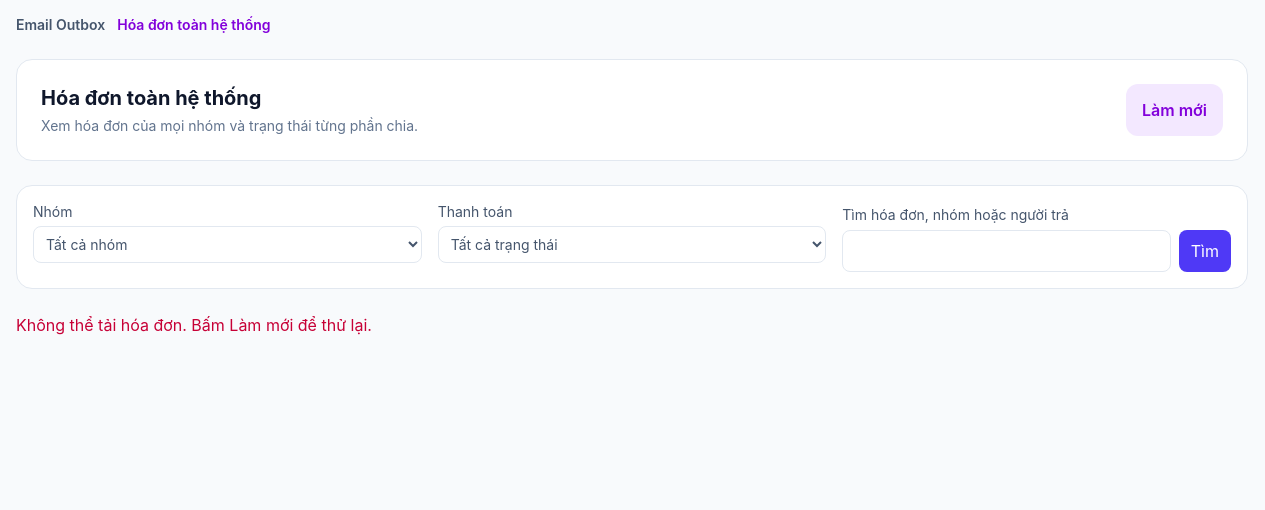
Scenario: failed loads can be retried and empty results disable pagination
Expected: the message "Không thể tải hóa đơn. Bấm Làm mới để thử lại." is shown, [16,315,372,335]
Step 1. Click the button "Làm mới" → [1174, 110], box [1126,84,1223,136]
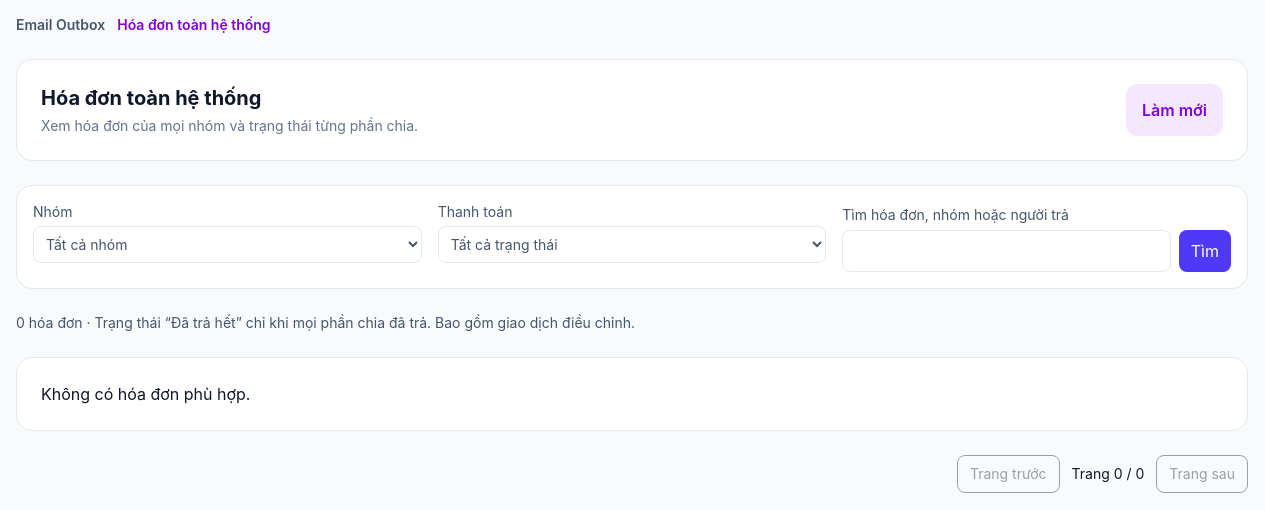
Expected: the text "Không có hóa đơn phù hợp." is shown, [16,357,1248,431]
Expected: the button "Trang sau" is disabled, [1156,455,1248,493]
